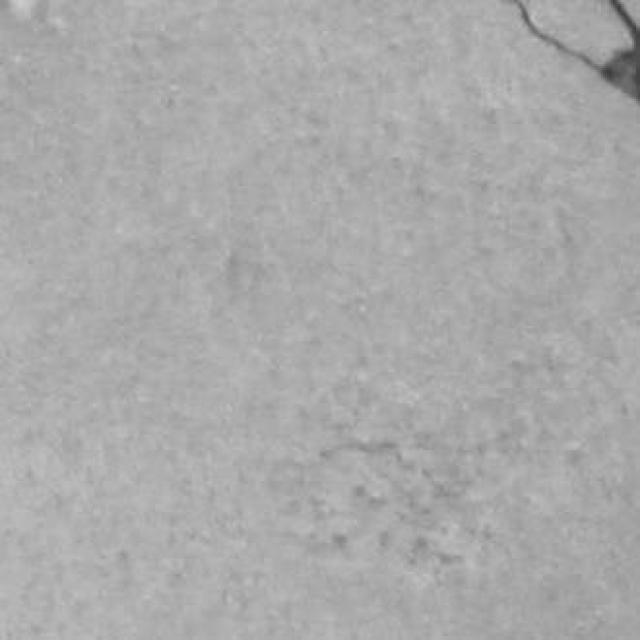crack: (511, 0, 639, 102)
